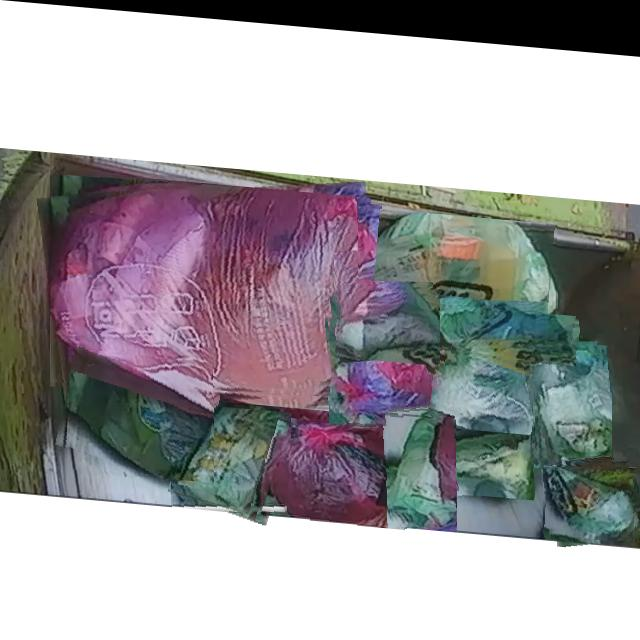general_trashbag: (359, 205, 552, 308), (67, 348, 213, 475), (171, 403, 292, 509), (428, 343, 551, 438), (531, 332, 611, 455), (391, 409, 456, 520), (339, 285, 440, 353), (544, 457, 636, 530), (441, 299, 574, 341), (446, 423, 532, 483)
other_trashbag: (52, 183, 370, 390), (273, 418, 405, 522), (333, 318, 433, 420)
